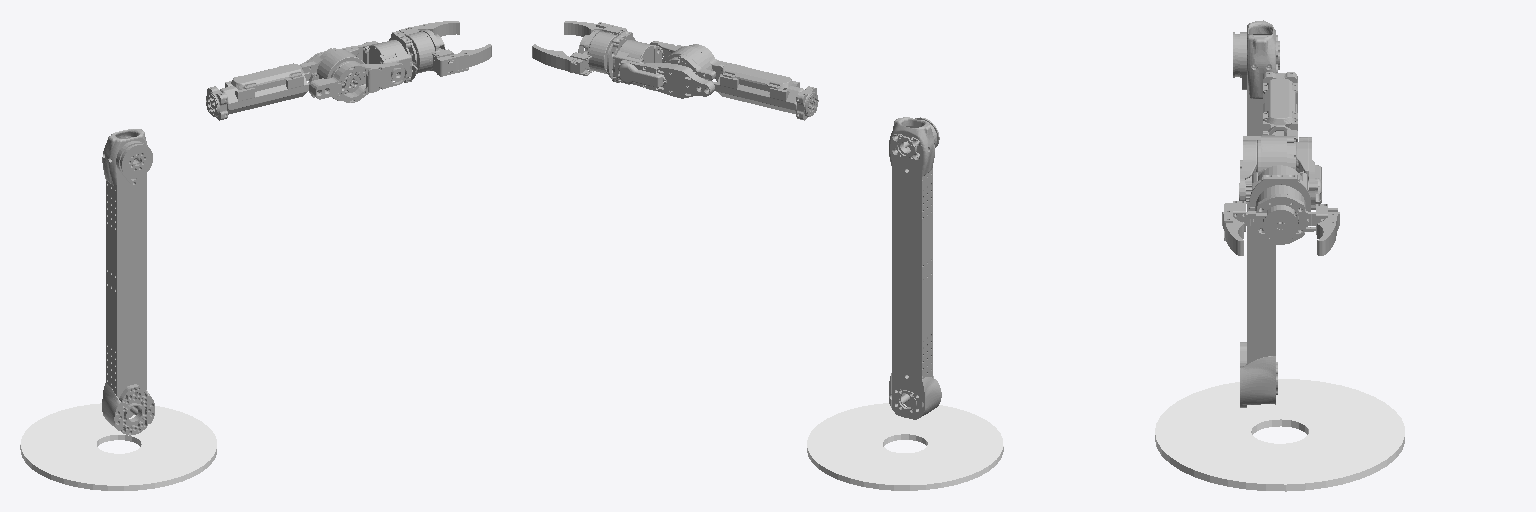
URDF robot description (arm_6dof_description):
<?xml version="1.0" encoding="utf-8"?>
<!-- This URDF was automatically created by SolidWorks to URDF Exporter! Originally created by Stephen Brawner (brawner@gmail.com) 
     Commit Version: 1.6.0-4-g7f85cfe  Build Version: 1.6.7995.38578
     For more information, please see http://wiki.ros.org/sw_urdf_exporter -->
<robot
  name="arm_6dof_description">
  <link
    name="base_link">
    <visual>
      <origin
        xyz="0 0 0"
        rpy="0 0 0" />
      <geometry>
        <mesh
          filename="package://arm_6dof_description/meshes/base_link.STL" />
      </geometry>
      <material
        name="">
        <color
          rgba="1 1 1 1" />
      </material>
    </visual>
    <!-- <collision>
      <origin
        xyz="0 0 0"
        rpy="0 0 0" />
      <geometry>
        <mesh
          filename="package://arm_6dof_description/meshes/base_link.STL" />
      </geometry>
    </collision> -->
  </link>
  <link
    name="link_1">
    <inertial>
      <origin
        xyz="0.0 0.0 0.05919"
        rpy="0 0 0" />
      <mass
        value="0.536" />
      <inertia
        ixx="0.3052091"
        ixy="-0.02572"
        ixz="-0.1003921"
        iyy="0.3640608"
        iyz="0.0255497"
        izz="0.1179245" />
    </inertial>
    <visual>
      <origin
        xyz="0 0 0"
        rpy="0 0 0" />
      <geometry>
        <mesh
          filename="package://arm_6dof_description/meshes/link_1.STL" />
      </geometry>
      <material
        name="">
        <color
          rgba="0.75294 0.75294 0.75294 1" />
      </material>
    </visual>
    <collision>
      <origin
        xyz="0 0 0"
        rpy="0 0 0" />
      <geometry>
        <mesh
          filename="package://arm_6dof_description/meshes/link_1.STL" />
      </geometry>
    </collision>
  </link>
  <joint
    name="joint_1"
    type="revolute">
    <origin
      xyz="0 0 0"
      rpy="0 0 0" />
    <parent
      link="base_link" />
    <child
      link="link_1" />
    <axis
      xyz="0 0 1" />
    <limit
      lower="-3.1"
      upper="3.1"
      effort="25"
      velocity="7.75" />
    <dynamics
      friction="0.3" />
  </joint>
  <link
    name="link_2">
    <inertial>
      <origin
        xyz="-0.0014451 0.17112 -0.020056"
        rpy="0 0 0" />
      <mass
        value="0.1502" />
      <inertia
        ixx="0.037649"
        ixy="0"
        ixz="1.3289E-05"
        iyy="0.036645"
        iyz="0"
        izz="0.0011637" />
    </inertial>
    <visual>
      <origin
        xyz="0 0 0"
        rpy="0 0 0" />
      <geometry>
        <mesh
          filename="package://arm_6dof_description/meshes/link_2.STL" />
      </geometry>
      <material
        name="">
        <color
          rgba="0.75294 0.75294 0.75294 1" />
      </material>
    </visual>
    <collision>
      <origin
        xyz="0 0 0"
        rpy="0 0 0" />
      <geometry>
        <mesh
          filename="package://arm_6dof_description/meshes/link_2.STL" />
      </geometry>
    </collision>  
  </link>
  <joint
    name="joint_2"
    type="revolute">
    <origin
      xyz="0 -0.042 0.071"
      rpy="1.5708 0 -3.1416" />
    <parent
      link="link_1" />
    <child
      link="link_2" />
    <axis
      xyz="0 0 -1" />
    <limit
      lower="-1.084"
      upper="1.528"
      effort="63"
      velocity="4.71" />
    <dynamics
      friction="0.5" />
  </joint>
  <link
    name="link_3">
    <inertial>
      <origin
        xyz="0.01602 0.094001 0.029936"
        rpy="0 0 0" />
      <mass
        value="1.821" />
      <inertia
        ixx="0.27702"
        ixy="0"
        ixz="0.02648"
        iyy="0.28195"
        iyz="0"
        izz="0.005747" />
    </inertial>
    <visual>
      <origin
        xyz="0 0 0"
        rpy="0 0 0" />
      <geometry>
        <mesh
          filename="package://arm_6dof_description/meshes/link_3.STL" />
      </geometry>
      <material
        name="">
        <color
          rgba="0.75294 0.75294 0.75294 1" />
      </material>
    </visual>
    <collision>
      <origin
        xyz="0 0 0"
        rpy="0 0 0" />
      <geometry>
        <mesh
          filename="package://arm_6dof_description/meshes/link_3.STL" />
      </geometry>
    </collision>
  </link>
  <joint
    name="joint_3"
    type="revolute">
    <origin
      xyz="0 0.37 0.007"
      rpy="0 0 1.5708" />
    <parent
      link="link_2" />
    <child
      link="link_3" />
    <axis
      xyz="0 0 -1" />
    <limit
      lower="-1.450"
      upper="0.5335"
      effort="35"
      velocity="4.71" />
    <dynamics
      friction="0.2" />
  </joint>
  <link
    name="link_4">
    <inertial>
      <origin
        xyz="0.00010602 0.0016431 0.18301"
        rpy="0 0 0" />
      <mass
        value="1.61" />
      <inertia
        ixx="0.157756532"
        ixy="0"
        ixz="0.101150375"
        iyy="0.22536253"
        iyz="0"
        izz="0.06816" />
    </inertial>
    <visual>
      <origin
        xyz="0 0 0"
        rpy="0 0 0" />
      <geometry>
        <mesh
          filename="package://arm_6dof_description/meshes/link_4.STL" />
      </geometry>
      <material
        name="">
        <color
          rgba="0.75294 0.75294 0.75294 1" />
      </material>
    </visual>
    <!-- <collision>
      <origin
        xyz="0 0 0"
        rpy="0 0 0" />
      <geometry>
        <mesh
          filename="package://arm_6dof_description/meshes/link_4.STL" />
      </geometry>
    </collision> -->
  </link>
  <joint
    name="joint_4"
    type="revolute">
    <origin
      xyz="0.03 0.1419 0.035"
      rpy="-1.5708 0 0" />
    <parent
      link="link_3" />
    <child
      link="link_4" />
    <axis
      xyz="0 0 1" />
    <limit
      lower="-3.1415926"
      upper="3.1415926"
      effort="18"
      velocity="7.54" />
    <dynamics
      friction="0.2" />
  </joint>
  <link
    name="link_5">
    <inertial>
      <origin
        xyz="5.5375E-07 0.0083726 -0.0014715"
        rpy="0 0 0" />
      <mass
        value="0.624" />
      <inertia
        ixx="0.072026932"
        ixy="0"
        ixz="0.062596148"
        iyy="0.126477469"
        iyz="0"
        izz="0.05466" />
    </inertial>
    <visual>
      <origin
        xyz="0 0 0"
        rpy="0 0 0" />
      <geometry>
        <mesh
          filename="package://arm_6dof_description/meshes/link_5.STL" />
      </geometry>
      <material
        name="">
        <color
          rgba="0.75294 0.75294 0.75294 1" />
      </material>
    </visual>
    <collision>
      <origin
        xyz="0 0 0"
        rpy="0 0 0" />
      <geometry>
        <mesh
          filename="package://arm_6dof_description/meshes/link_5.STL" />
      </geometry>
    </collision>
  </link>
  <joint
    name="joint_5"
    type="revolute">
    <origin
      xyz="0 0 0.2591"
      rpy="1.5708 0 0" />
    <parent
      link="link_4" />
    <child
      link="link_5" />
    <axis
      xyz="0 0 -1" />
    <limit
      lower="-1.967"
      upper="1.937"
      effort="6"
      velocity="24.61" />
    <dynamics
      friction="0.2" />
  </joint>
  <link
    name="link_6">
    <inertial>
      <origin
        xyz="0.0021385 -0.0015806 0.054172"
        rpy="0 0 0" />
      <mass
        value="0.77108" />
      <inertia
        ixx="0.031464282"
        ixy="0"
        ixz="0.030962713"
        iyy="0.06203783"
        iyz="0"
        izz="0.030828" />
    </inertial>
    <visual>
      <origin
        xyz="0 0 0"
        rpy="0 0 0" />
      <geometry>
        <mesh
          filename="package://arm_6dof_description/meshes/link_6.STL" />
      </geometry>
      <material
        name="">
        <color
          rgba="0.75294 0.75294 0.75294 1" />
      </material>
    </visual>
    <collision>
      <origin
        xyz="0 0 0"
        rpy="0 0 0" />
      <geometry>
        <mesh
          filename="package://arm_6dof_description/meshes/link_6.STL" />
      </geometry>
    </collision>
  </link>
  <joint
    name="joint_6"
    type="revolute">
    <origin
      xyz="0.0 0.119 0"
      rpy="1.5708 0 0" />
    <parent
      link="link_5" />
    <child
      link="link_6" />
    <axis
      xyz="0 0 1" />
    <limit
      lower="-3.1415926"
      upper="3.1415926"
      effort="3"
      velocity="10" />
    <dynamics
      friction="0.2" />
  </joint>
</robot>

--- Render facts (derived) ---
3 views of the same robot in one strip: view 1: azimuth 30°, elevation 25°; view 2: azimuth 150°, elevation 25°; view 3: azimuth 270°, elevation 25° (orthographic).
Model arm_6dof_description with 7 links and 6 joints (6 revolute), rooted at base_link, posed every joint at zero.
Visible links, largest first — view 1: link_2, base_link, link_4, link_6, link_5; view 2: base_link, link_2, link_4, link_6, link_5; view 3: base_link, link_2, link_6, link_4, link_5.
Link boxes in pixels (x1=…): link_2: x1=102, y1=129, x2=154, y2=435; base_link: x1=20, y1=403, x2=216, y2=490; link_4: x1=206, y1=41, x2=407, y2=120; link_6: x1=389, y1=21, x2=491, y2=82; link_5: x1=362, y1=40, x2=411, y2=80; base_link: x1=807, y1=403, x2=1003, y2=490; link_2: x1=889, y1=117, x2=941, y2=419; link_4: x1=618, y1=41, x2=818, y2=120; link_6: x1=532, y1=21, x2=635, y2=82; link_5: x1=613, y1=40, x2=661, y2=77; base_link: x1=1155, y1=379, x2=1404, y2=491; link_2: x1=1233, y1=20, x2=1279, y2=407; link_6: x1=1222, y1=175, x2=1339, y2=255; link_4: x1=1239, y1=72, x2=1321, y2=209; link_5: x1=1246, y1=165, x2=1308, y2=206.
Size in the robot's own frame: 0.6729 by 0.2597 by 0.501 metres.
5 mesh visuals loaded from 7 distinct referenced files (5 binary STL); not drawn: 2 (reference not matched to a file when rendering).
